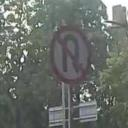NoVirarU: (47, 24, 93, 86)
